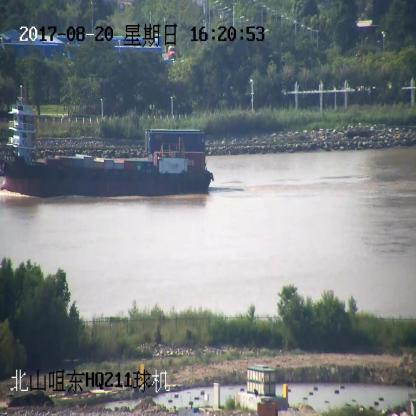Container Ship: (2, 82, 214, 198)
